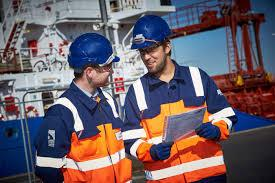gloves: (195, 122, 222, 142), (149, 141, 174, 162)
